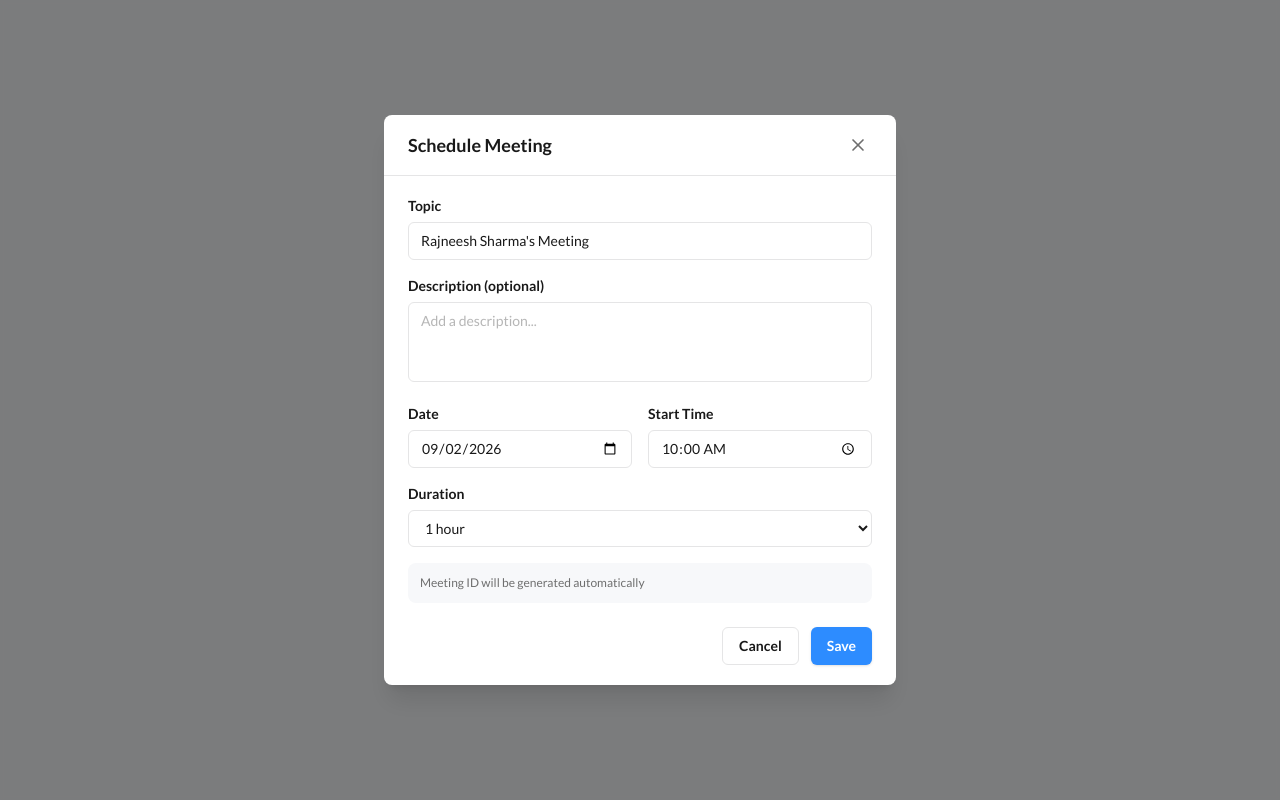
Scenario: ScheduleMeetingModal › submits valid payload with ISO date string in user local timezone
Replace the text in the field labelled "Topic" with "Sprint Planning" at (640, 241), box left=408, top=222, right=872, bottom=260
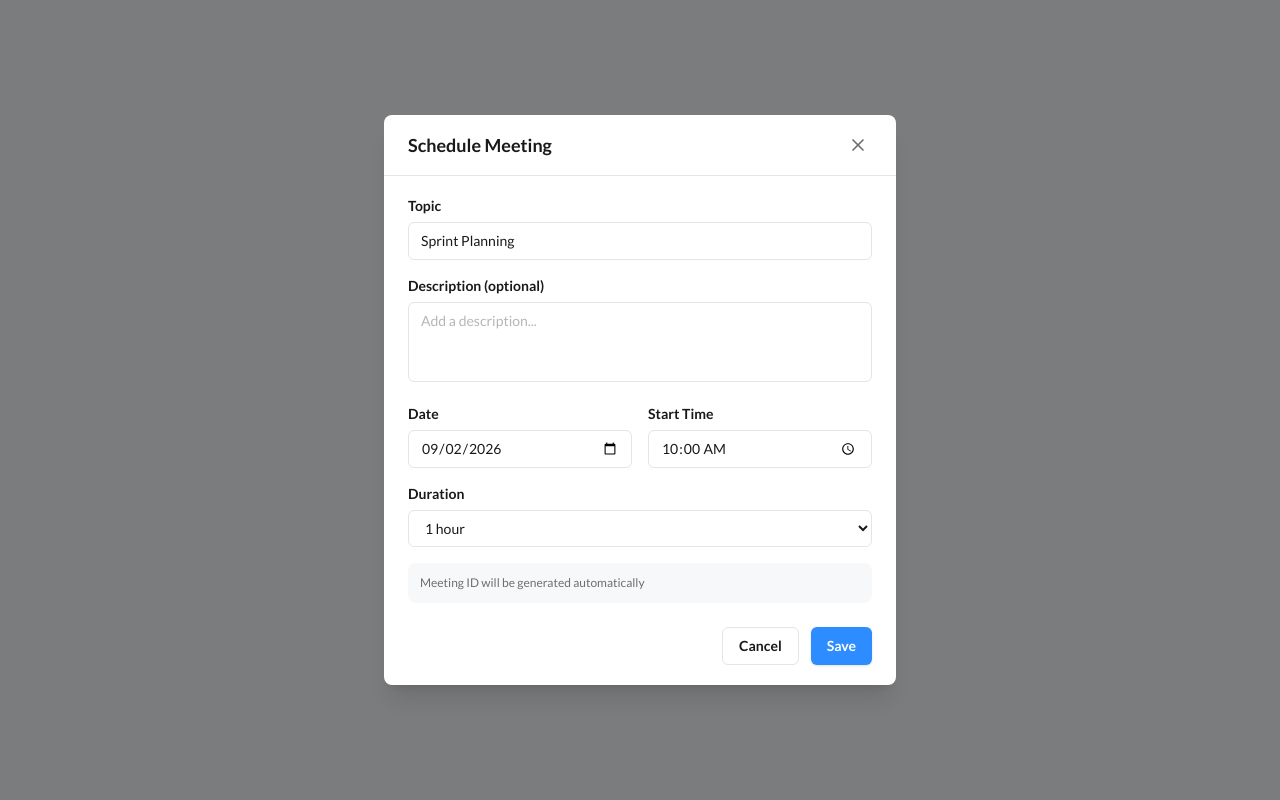
Click the button "Save" at (841, 646), box left=811, top=627, right=872, bottom=665
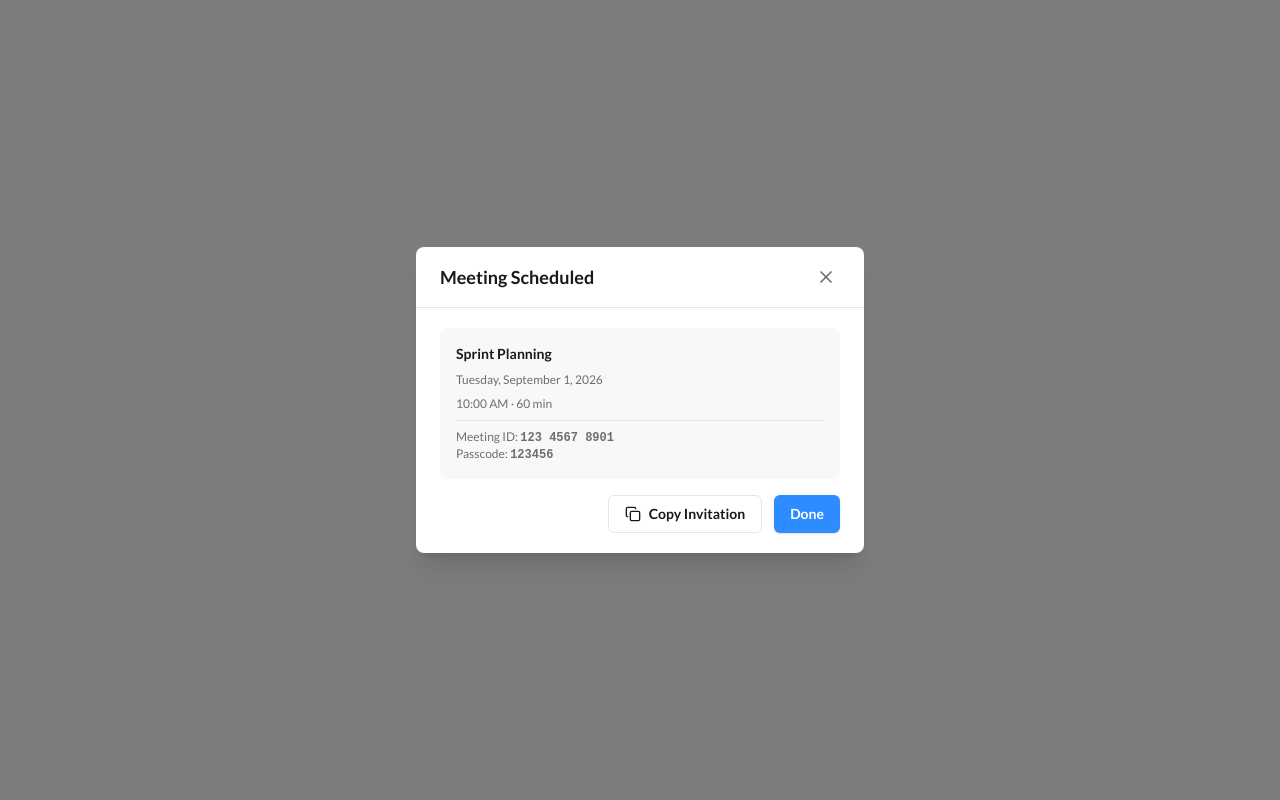
Now the text "Sprint Planning" is shown, box left=456, top=345, right=552, bottom=362
